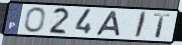2: (48, 7, 72, 37)
4: (74, 8, 95, 38)
A: (94, 11, 122, 38)
I: (133, 11, 148, 40)
O: (23, 6, 47, 34)
T: (152, 13, 172, 39)
